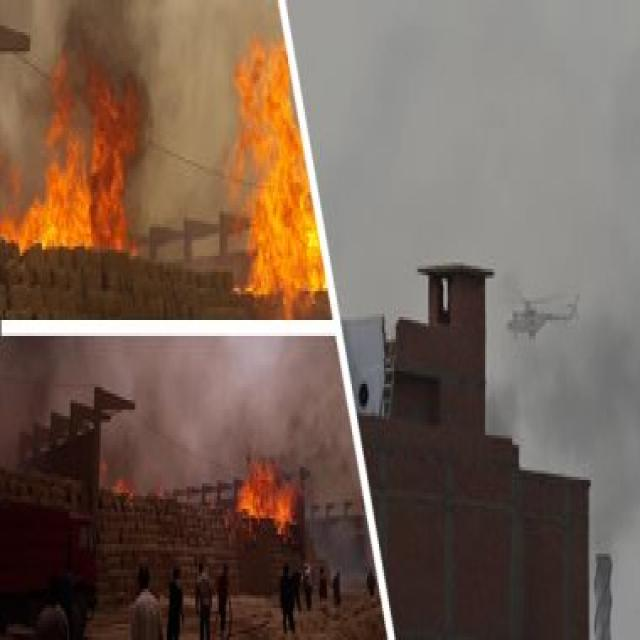fire: (5, 66, 152, 262), (227, 49, 324, 312), (231, 454, 311, 536)
